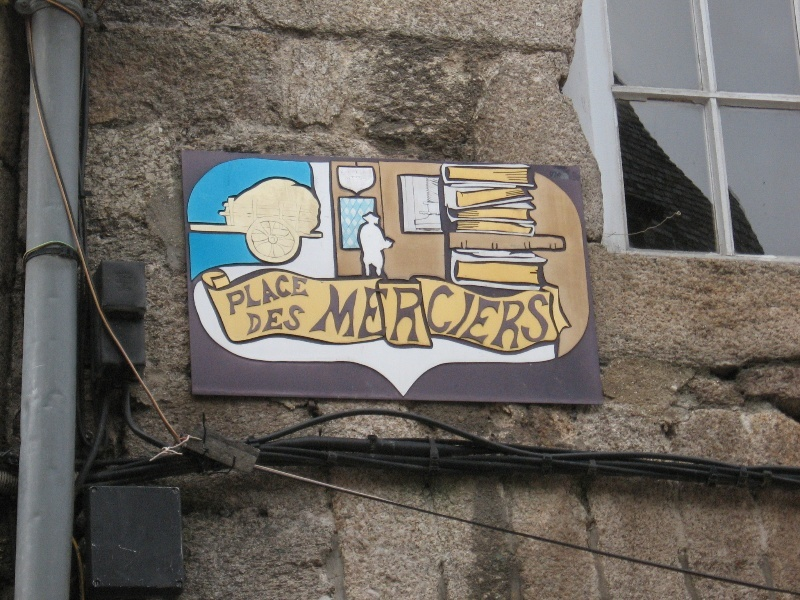text: (337, 279, 352, 351), (353, 279, 368, 351), (369, 279, 384, 351), (385, 279, 400, 351), (401, 279, 416, 351), (417, 279, 432, 351), (433, 279, 448, 351), (449, 279, 464, 351), (465, 279, 480, 351), (481, 279, 496, 351), (497, 279, 512, 351), (513, 279, 528, 351), (529, 279, 544, 351), (225, 267, 240, 317), (241, 267, 256, 317), (257, 267, 272, 317), (273, 267, 288, 317), (289, 267, 304, 317), (545, 279, 555, 351), (257, 302, 272, 335), (273, 302, 288, 335), (289, 302, 304, 335), (331, 279, 336, 351), (247, 302, 256, 335), (305, 267, 309, 317), (305, 302, 309, 335), (115, 274, 128, 279), (116, 281, 128, 284), (129, 274, 133, 279), (129, 281, 133, 284)
